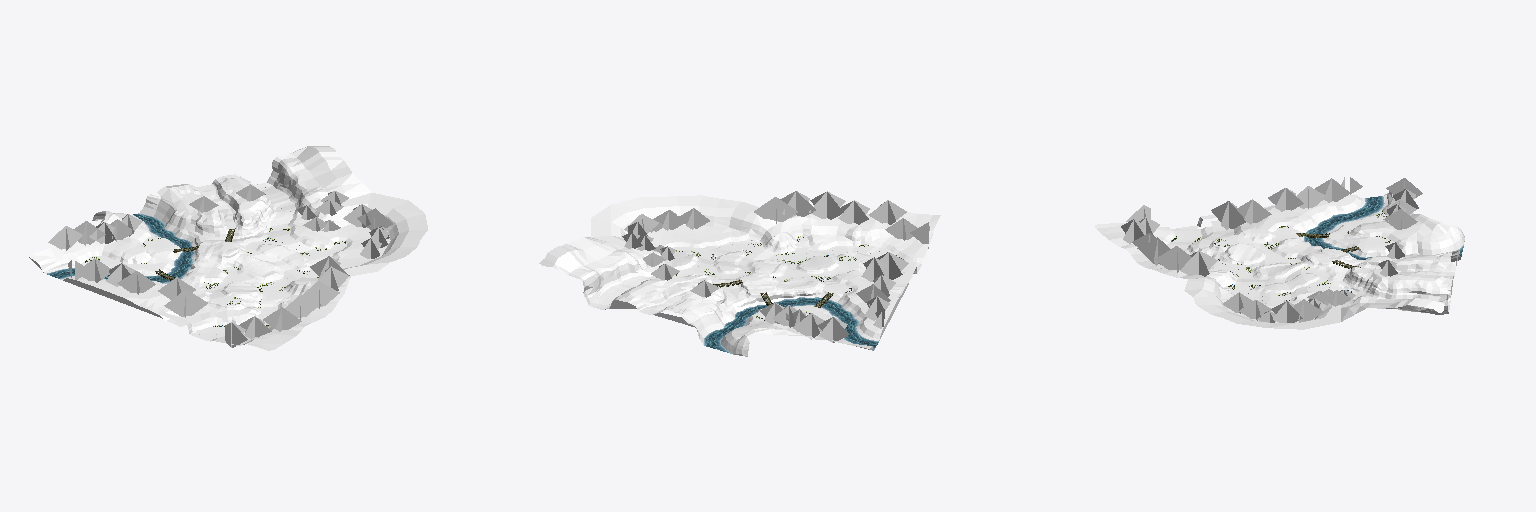
3 renders of one model, left to right at view 1: azimuth 30°, elevation 25°; view 2: azimuth 150°, elevation 25°; view 3: azimuth 270°, elevation 25°, orthographic.
Visible parts, largest first — view 1: Object.321, Object.205, Object.242, Object.330, Object.204, Object.203, Object.311; view 2: Object.205, Object.242, Object.321, Object.330, Object.204, Object.203, Object.311; view 3: Object.321, Object.242, Object.330, Object.205, Object.203, Object.204, Object.311.
Boxes of the visible parts, box(x1,y1,x2,y2) form: Object.321: box(28, 174, 308, 328); Object.205: box(213, 146, 427, 350); Object.242: box(48, 184, 392, 347); Object.330: box(42, 182, 317, 335); Object.204: box(202, 176, 349, 341); Object.203: box(47, 213, 194, 283); Object.311: box(195, 184, 324, 338); Object.205: box(539, 195, 940, 297); Object.242: box(622, 191, 929, 342); Object.321: box(608, 252, 912, 348); Object.330: box(601, 248, 917, 355); Object.204: box(585, 228, 922, 306); Object.203: box(704, 297, 878, 356); Object.311: box(595, 244, 919, 308); Object.321: box(1189, 191, 1460, 302); Object.242: box(1121, 177, 1422, 322); Object.330: box(1182, 193, 1464, 307); Object.205: box(1095, 223, 1447, 329); Object.203: box(1304, 196, 1464, 259); Object.204: box(1165, 228, 1448, 314); Object.311: box(1175, 226, 1449, 310).
Bounding box in the file's own units: 288 × 37.05 × 281.
Materials: 13 (3 with a texture image).